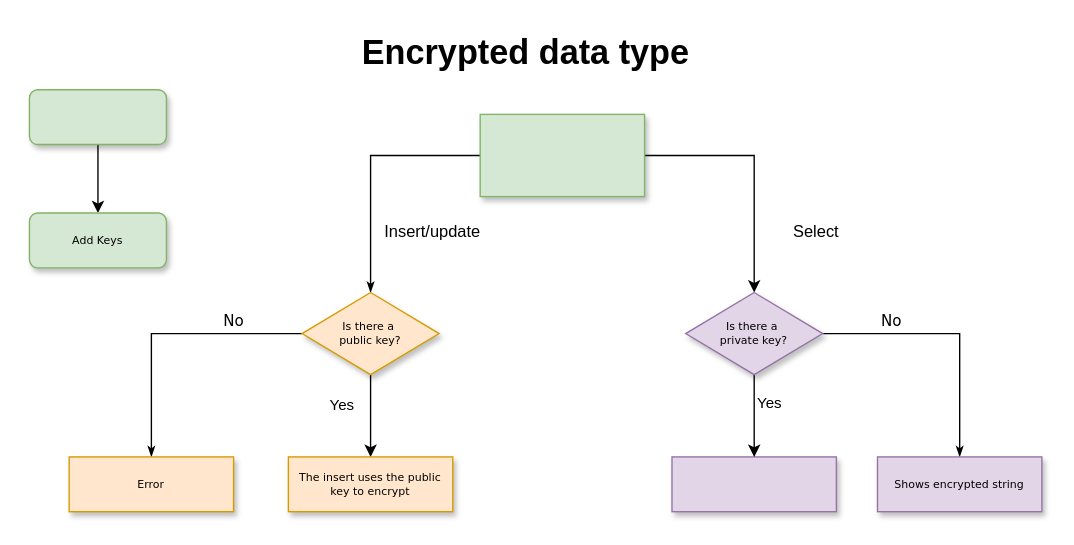
The diagram is 1074 pixels wide and 545 high, and some of its shapes have lost their labels. Each missing label, with the centre of its shape:
"CONNECTION" goes at [99,118].
"The select uses the private key to decrypt" goes at [755,485].
"Using data type (text-based)" goes at [563,157].
